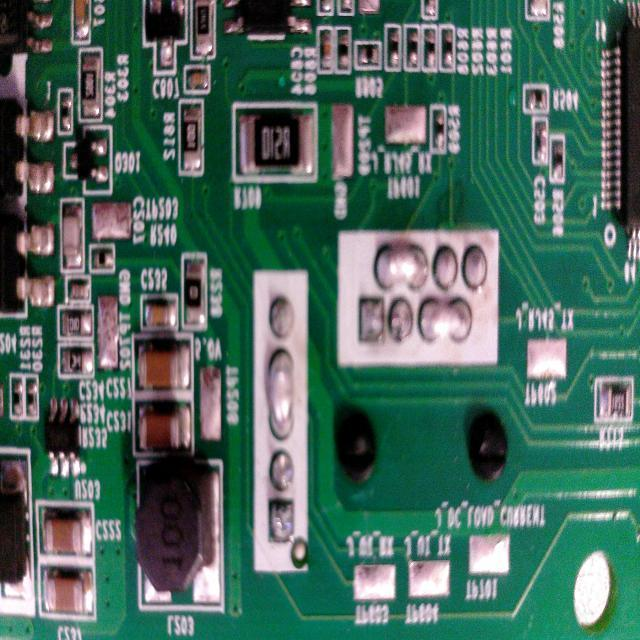Soldering shorted: (416, 293, 479, 348), (263, 346, 299, 442), (371, 240, 430, 292)
